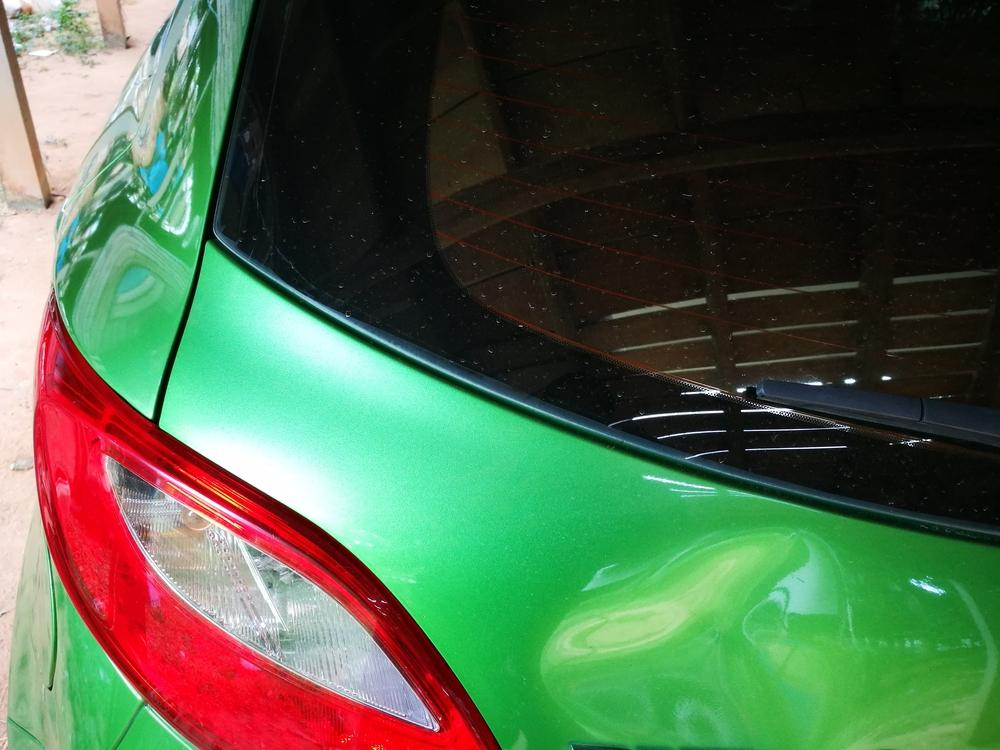dent: (540, 533, 853, 750)
